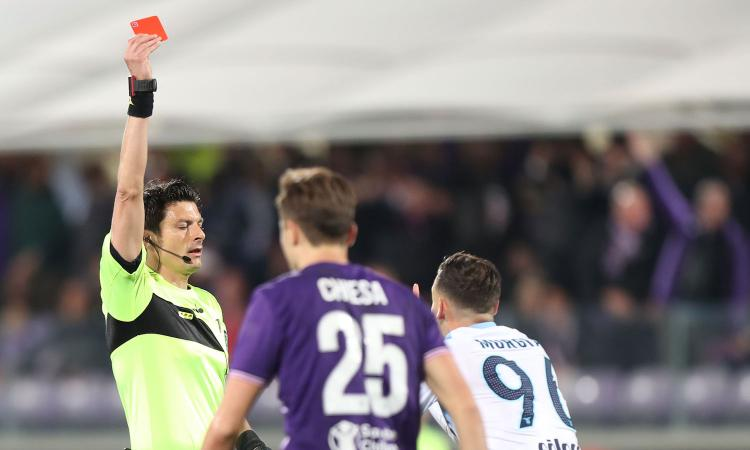red_card: (110, 9, 179, 70)
